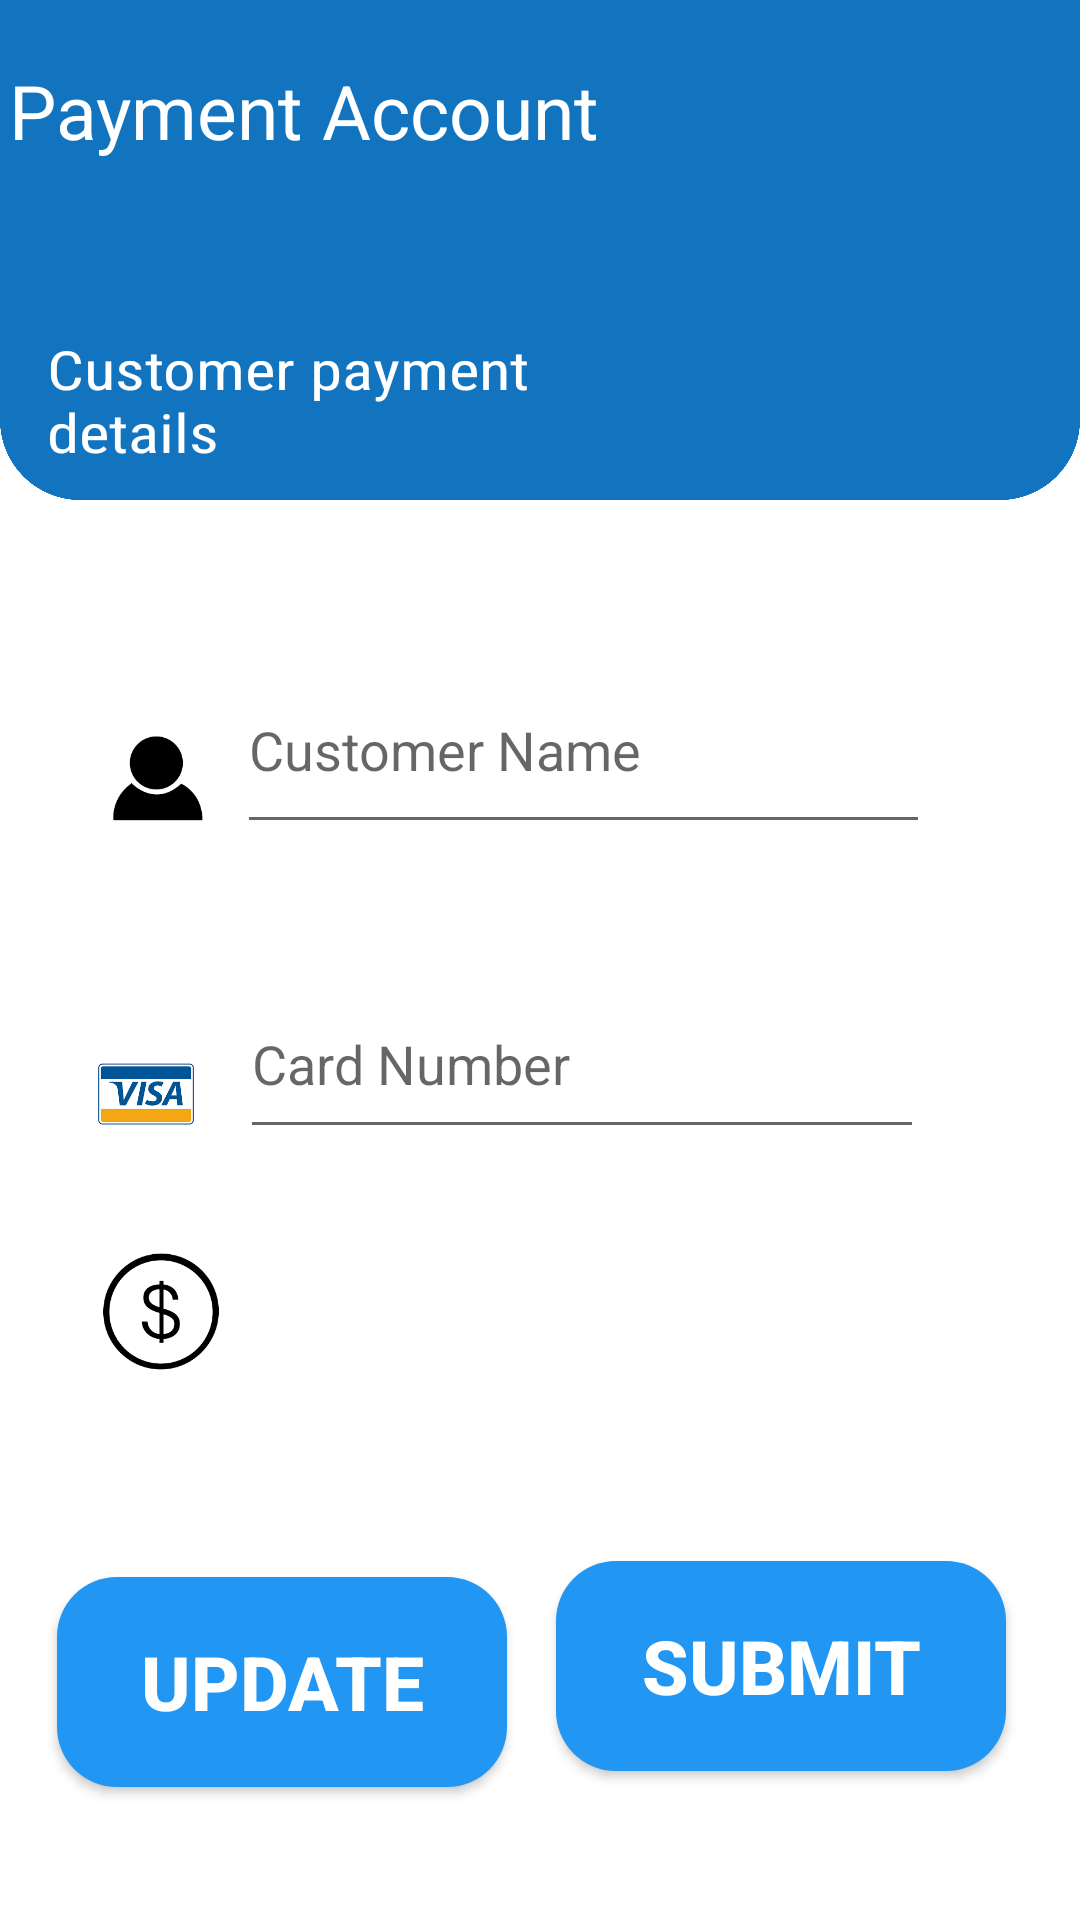

Where icons sit on this 1080 × 1920 app screen, as (x1, y1, x2, y2):
money: (103, 1253, 219, 1370)
